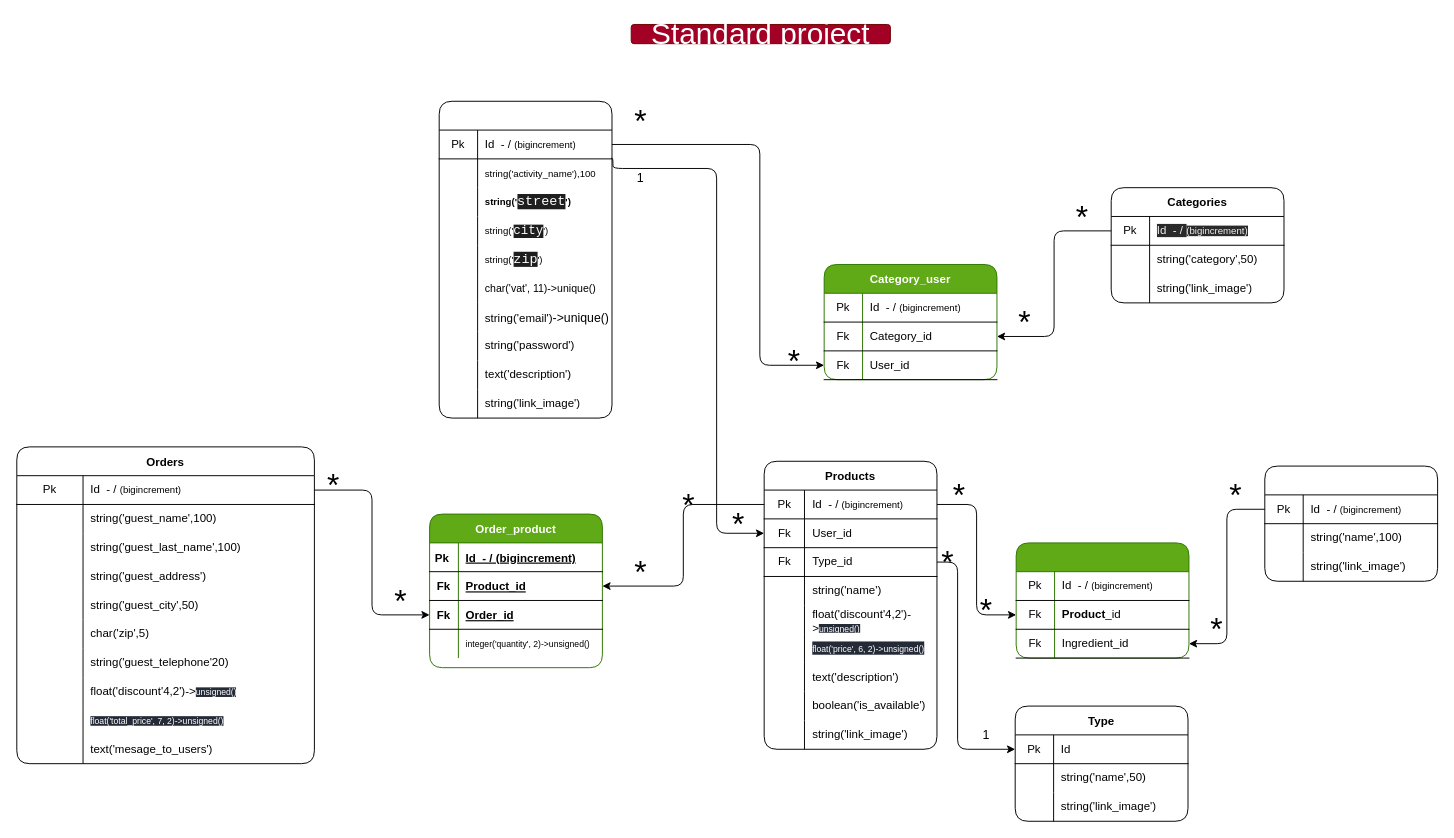
The diagram is 1454 pixels wide and 838 high, and some of its shapes have lost their labels. The box of each missing label's shape, as (x1, y1, x2, y2) in pixels:
Ingredient_product: (1015, 542, 1189, 658)
Ingredients: (1264, 465, 1438, 581)
Users (restaurateurs): (438, 100, 612, 418)
